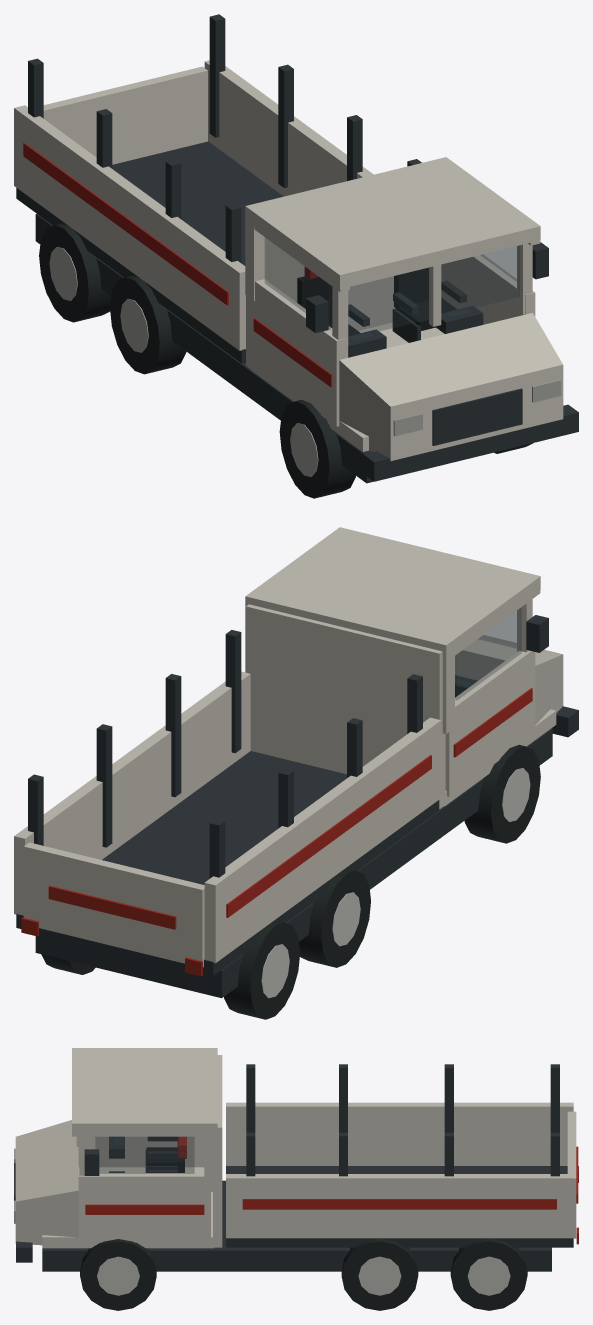
The picture shows the model from 3 angles, top to bottom: view 1: azimuth 30°, elevation 25°; view 2: azimuth 150°, elevation 25°; view 3: azimuth 270°, elevation 25°; orthographic projection. The views are drawn at different scales.
Parts seen in each view (by area): view 1: cargo-transport-painted, cargo-transport-glazing, cargo-ramp-painted, wheel--1-2.7-fleet-rubber, wheel--1--1.25-fleet-rubber, wheel--1--2.9-fleet-rubber, crew-chair-passenger-painted, crew-chair-driver-painted, wheel--1--2.9-fleet-edge, wheel--1-2.7-fleet-edge, wheel--1--1.25-fleet-edge, breakaway-0-painted; view 2: cargo-transport-painted, cargo-ramp-painted, wheel--1-2.7-fleet-rubber, wheel--1--2.9-fleet-rubber, wheel--1--1.25-fleet-rubber, cargo-transport-glazing, wheel--1--1.25-fleet-edge, wheel--1-2.7-fleet-edge, wheel--1--2.9-fleet-edge, breakaway-0-painted; view 3: cargo-transport-painted, cargo-transport-glazing, wheel-1--2.9-fleet-rubber, wheel-1--1.25-fleet-rubber, wheel-1-2.7-fleet-rubber, crew-chair-driver-painted, wheel-1--2.9-fleet-edge, wheel-1--1.25-fleet-edge, wheel-1-2.7-fleet-edge, cargo-ramp-painted, crew-chair-passenger-painted, breakaway-1-painted.
Boxes of the visible parts, x1,y1,x2,y2 form: cargo-transport-painted: (14, 14, 578, 483); cargo-transport-glazing: (265, 238, 519, 338); cargo-ramp-painted: (43, 66, 207, 164); wheel--1-2.7-fleet-rubber: (279, 399, 355, 498); wheel--1--1.25-fleet-rubber: (110, 275, 186, 374); wheel--1--2.9-fleet-rubber: (39, 223, 111, 322); crew-chair-passenger-painted: (392, 267, 483, 342); crew-chair-driver-painted: (297, 267, 386, 357); wheel--1--2.9-fleet-edge: (49, 247, 77, 300); wheel--1-2.7-fleet-edge: (290, 423, 318, 476); wheel--1--1.25-fleet-edge: (120, 299, 148, 352); breakaway-0-painted: (306, 295, 328, 332); cargo-transport-painted: (14, 527, 578, 998); cargo-ramp-painted: (23, 842, 204, 967); wheel--1-2.7-fleet-rubber: (464, 744, 540, 843); wheel--1--2.9-fleet-rubber: (224, 920, 300, 1019); wheel--1--1.25-fleet-rubber: (299, 869, 370, 967); cargo-transport-glazing: (455, 607, 521, 700); wheel--1--1.25-fleet-edge: (332, 892, 360, 946); wheel--1-2.7-fleet-edge: (502, 768, 530, 821); wheel--1--2.9-fleet-edge: (261, 944, 289, 998); breakaway-0-painted: (526, 615, 548, 652); cargo-transport-painted: (14, 1048, 578, 1271); cargo-transport-glazing: (95, 1137, 194, 1173); wheel-1--2.9-fleet-rubber: (450, 1238, 527, 1310); wheel-1--1.25-fleet-rubber: (341, 1238, 418, 1310); wheel-1-2.7-fleet-rubber: (80, 1239, 156, 1310); crew-chair-driver-painted: (109, 1136, 178, 1172); wheel-1--2.9-fleet-edge: (467, 1256, 510, 1295); wheel-1--1.25-fleet-edge: (358, 1256, 401, 1295); wheel-1-2.7-fleet-edge: (97, 1256, 139, 1295); cargo-ramp-painted: (567, 1111, 578, 1238); crew-chair-passenger-painted: (109, 1136, 186, 1172); breakaway-1-painted: (84, 1149, 99, 1175).
Bounding box in the file's own units: 16.46 × 16.2 × 44.74.
